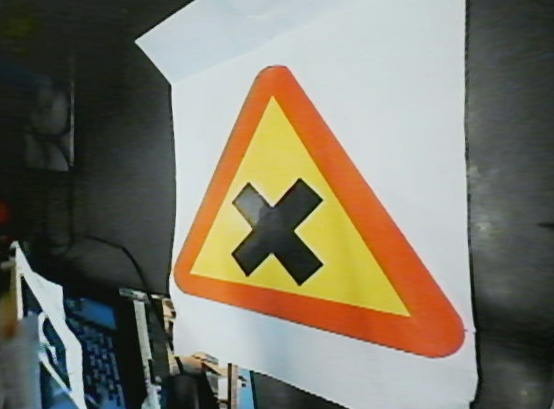junction: (163, 55, 469, 365)
